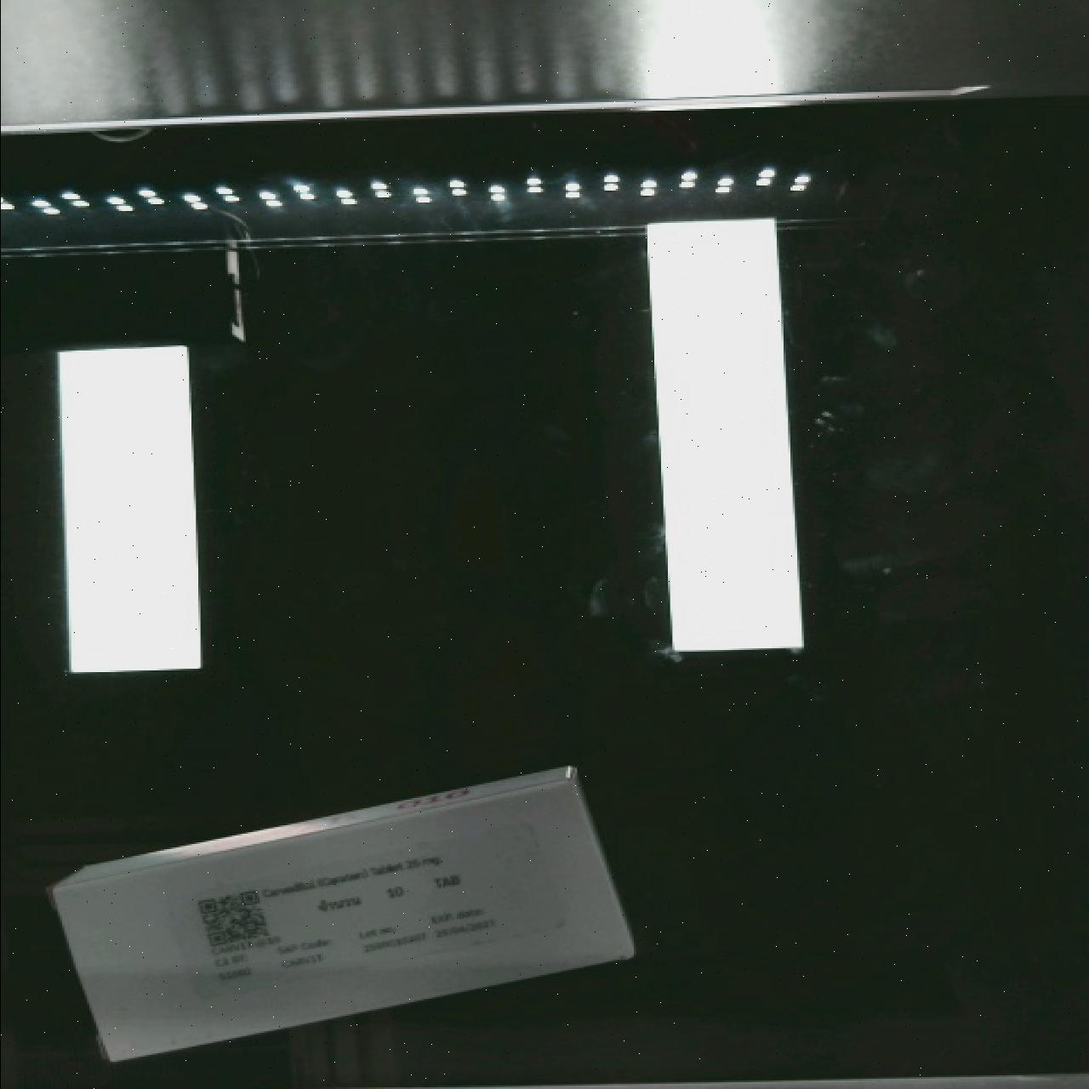qr_code: (181, 876, 280, 962)
